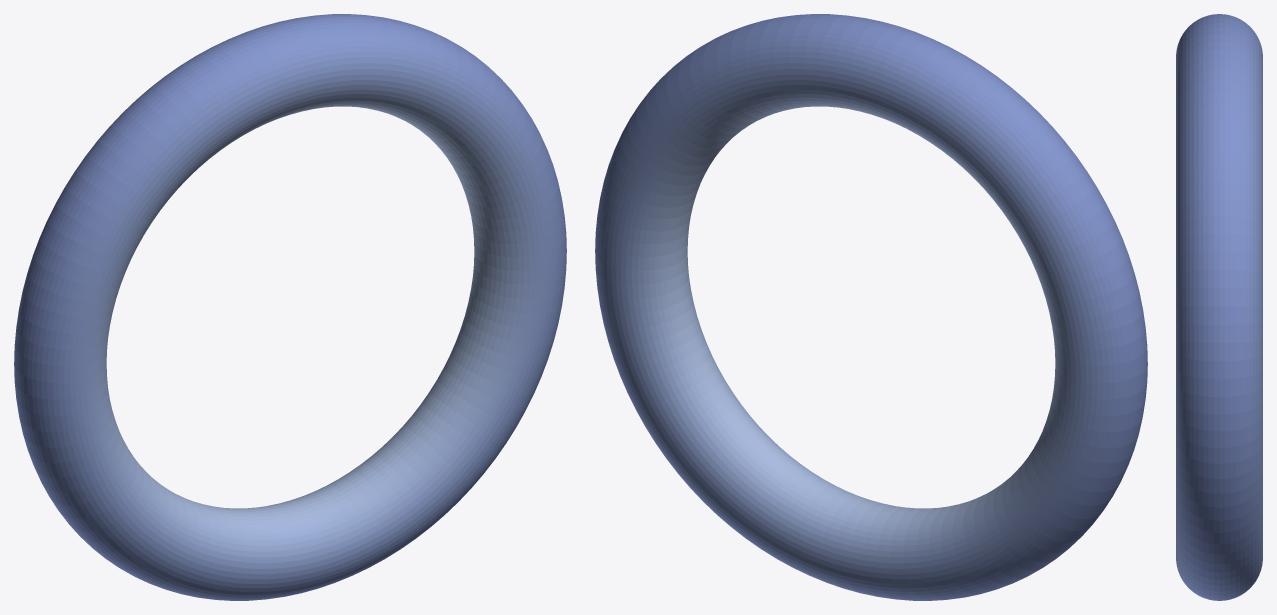
3 renders of one model, left to right at view 1: azimuth 30°, elevation 25°; view 2: azimuth 150°, elevation 25°; view 3: azimuth 270°, elevation 25°, orthographic. The views are drawn at different scales.
Parts seen in each view (by area): view 1: world; view 2: world; view 3: world.
Boxes of the visible parts, x1,y1,x2,y2 form: world: (14, 14, 566, 600); world: (595, 14, 1147, 600); world: (1176, 14, 1262, 600).
Size of the model in its own units: 24.27 by 24.27 by 3.59.
